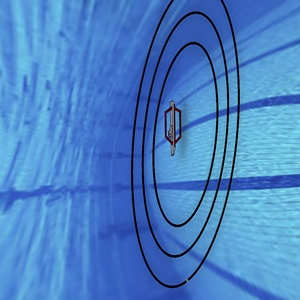circle: (121, 1, 245, 295)
submarine: (151, 95, 188, 160)
